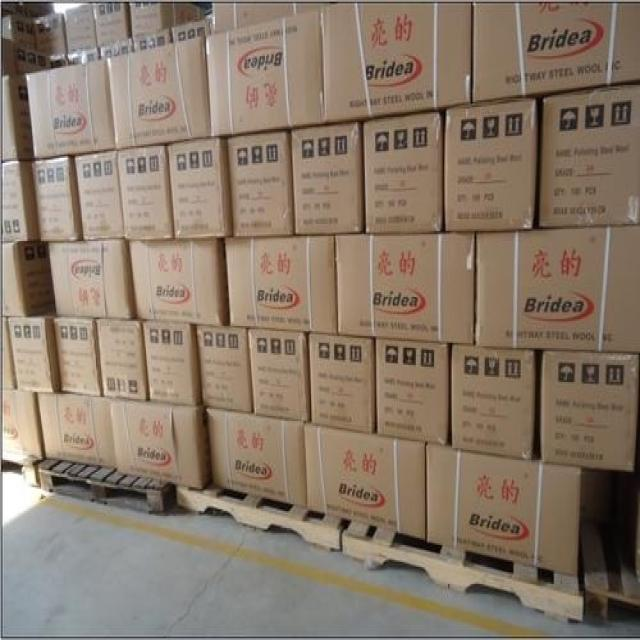box: (476, 224, 640, 353), (426, 445, 580, 577), (324, 3, 471, 122), (474, 2, 640, 102), (206, 5, 324, 138), (335, 233, 475, 345), (539, 83, 640, 227), (305, 424, 424, 540), (445, 97, 539, 231), (540, 351, 639, 470), (108, 37, 211, 149), (225, 236, 337, 334), (207, 407, 306, 508), (452, 345, 536, 460), (364, 112, 443, 233), (110, 399, 212, 489), (26, 59, 115, 160), (128, 238, 230, 326), (292, 122, 364, 234), (375, 340, 451, 446), (49, 239, 137, 319), (227, 132, 294, 236), (308, 333, 376, 435), (169, 138, 233, 239), (247, 328, 311, 423), (37, 392, 115, 469), (116, 144, 174, 239), (143, 321, 202, 406), (196, 326, 253, 413), (74, 151, 124, 239), (96, 317, 148, 401), (0, 239, 55, 317), (33, 156, 83, 241), (8, 317, 61, 392), (54, 316, 102, 396), (211, 3, 324, 34), (0, 160, 40, 244), (0, 75, 33, 163), (3, 389, 45, 458), (614, 470, 640, 577), (128, 0, 205, 36), (580, 465, 617, 521), (1, 39, 49, 78), (91, 2, 131, 48), (65, 3, 97, 54), (33, 14, 67, 61), (3, 15, 36, 49), (3, 317, 17, 389), (1, 2, 55, 20), (132, 29, 172, 53), (172, 19, 210, 44), (100, 37, 133, 59), (67, 48, 100, 66), (49, 56, 67, 70)
